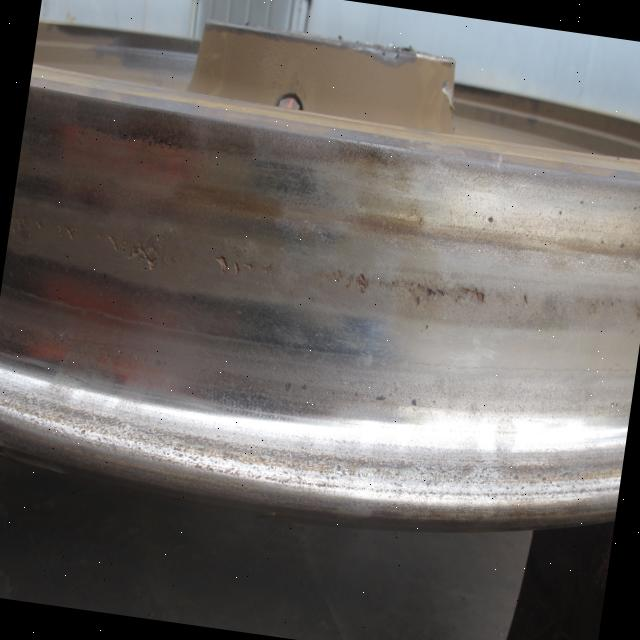Peeling: (331, 272, 371, 297), (215, 257, 254, 279), (129, 246, 157, 271), (461, 287, 487, 306), (106, 237, 121, 252), (66, 226, 76, 240), (34, 221, 44, 232)
